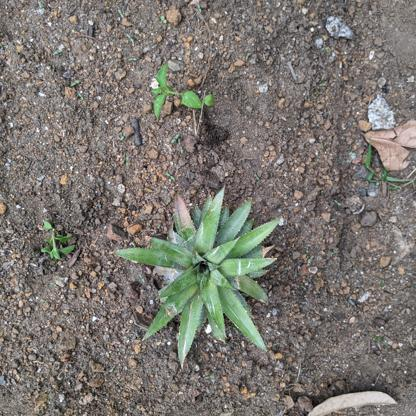pineapple: (117, 186, 285, 371)
weed: (150, 62, 216, 120), (35, 215, 80, 263)
